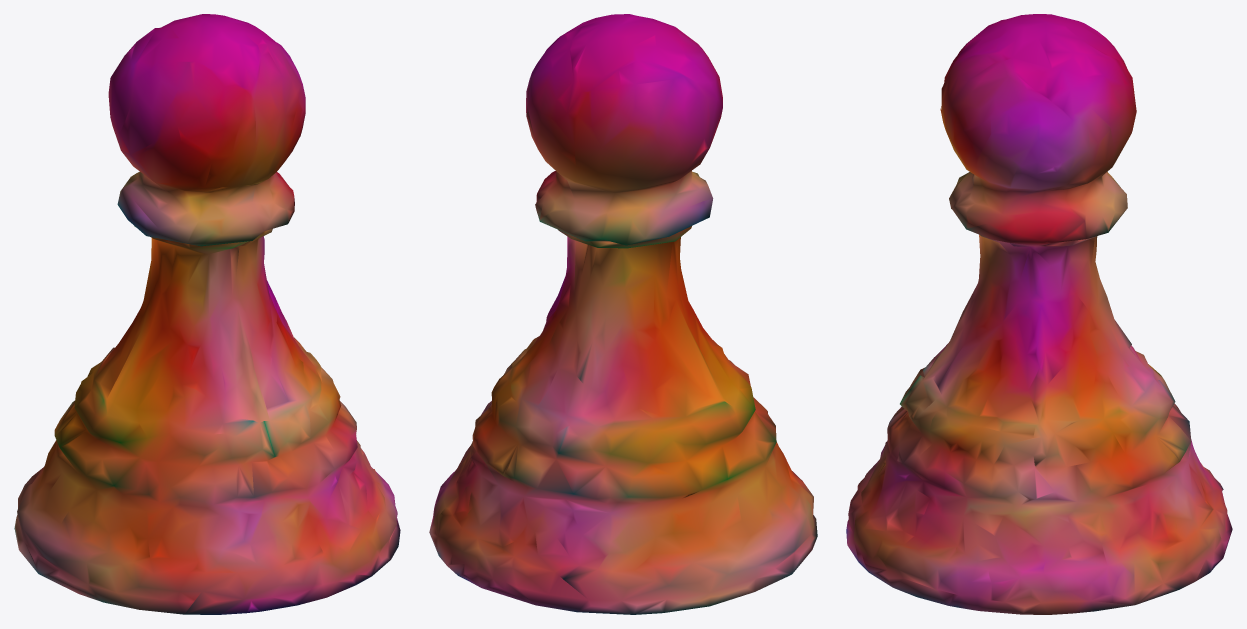
Rendered from pawn.glb.
The picture shows the model from 3 angles, left to right: view 1: azimuth 30°, elevation 25°; view 2: azimuth 150°, elevation 25°; view 3: azimuth 270°, elevation 25°; orthographic projection.
Visible parts, largest first — view 1: geometry_0; view 2: geometry_0; view 3: geometry_0.
Boxes of the visible parts, <box> form: geometry_0: <box>14,14,400,614</box>; geometry_0: <box>429,14,817,614</box>; geometry_0: <box>846,14,1232,614</box>.
Size of the model in its own units: 0.6872 by 1 by 0.6852.
